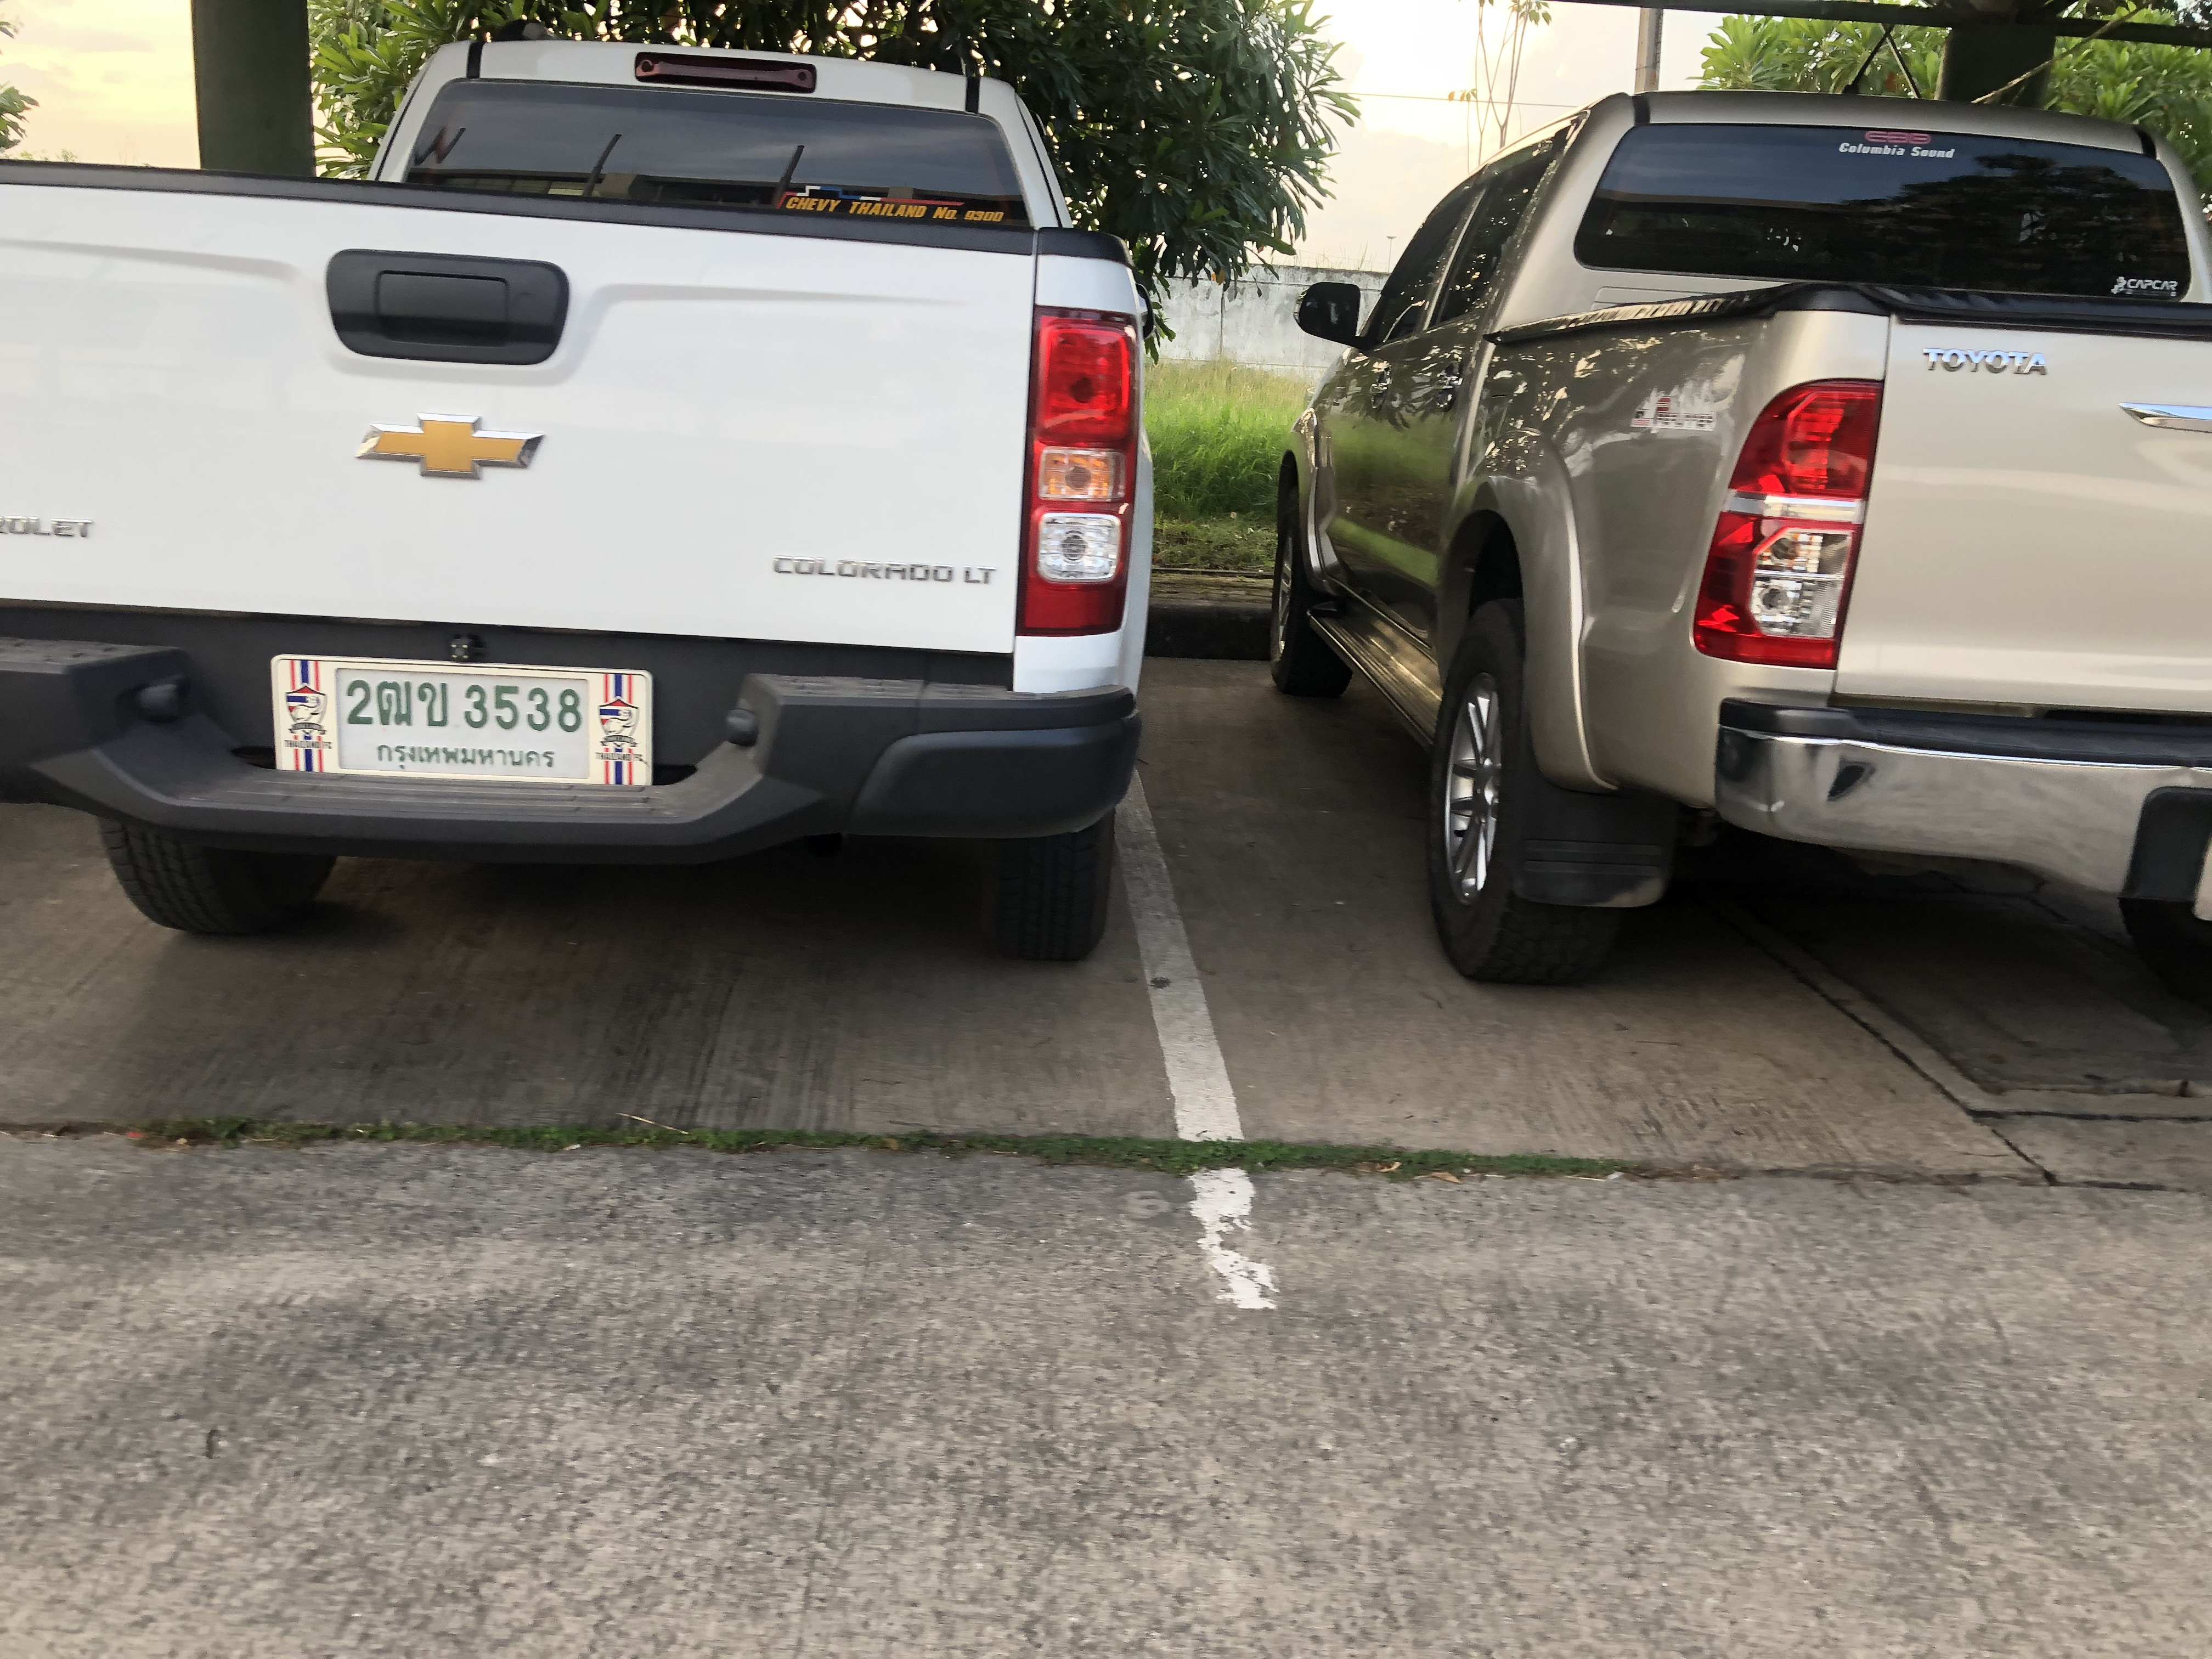in: (336, 669, 592, 781)
out: (266, 648, 660, 800)
